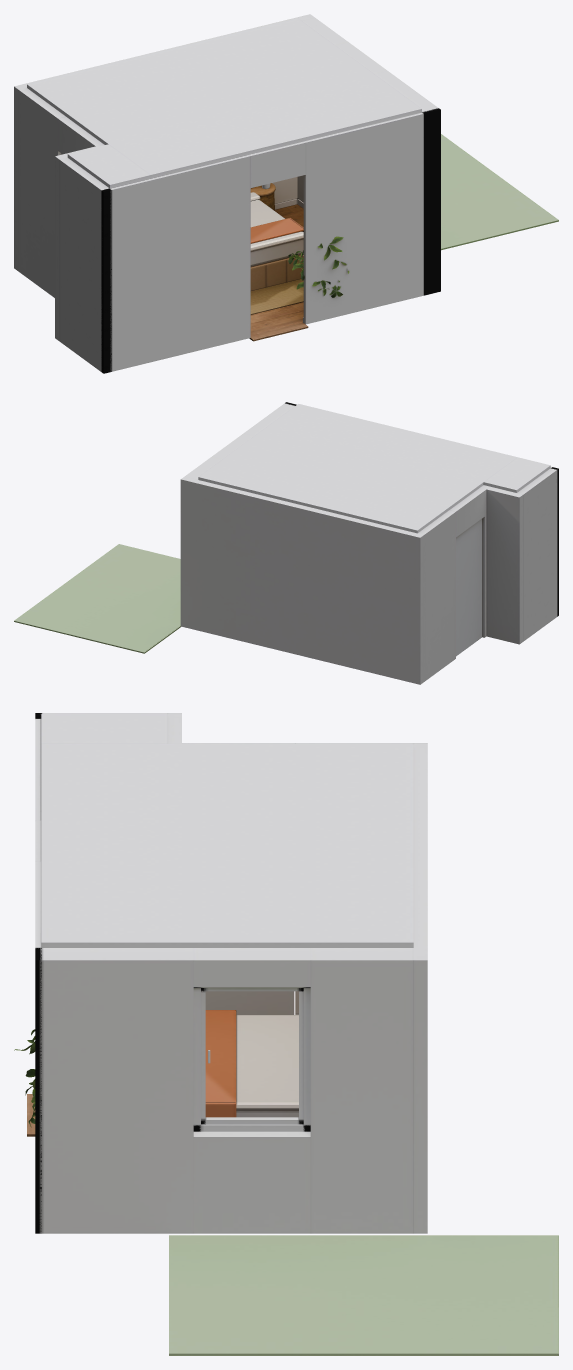
The model's file is schlafzimmer.glb.
3 renders of one model, top to bottom at view 1: azimuth 30°, elevation 25°; view 2: azimuth 150°, elevation 25°; view 3: azimuth 270°, elevation 25°, orthographic. The views are drawn at different scales.
Visible parts, largest first — view 1: interior, outdoor, pachira_aquatica_01_leaves_d; view 2: interior, outdoor; view 3: interior, outdoor.
Boxes of the visible parts, bbox=[...] form: interior: bbox=[14, 14, 440, 373]; outdoor: bbox=[441, 134, 558, 250]; pachira_aquatica_01_leaves_d: bbox=[288, 236, 349, 297]; interior: bbox=[180, 402, 558, 684]; outdoor: bbox=[14, 544, 180, 653]; interior: bbox=[27, 713, 427, 1233]; outdoor: bbox=[169, 1235, 558, 1355].
Bounding box in the file's own units: 7.34 × 2.63 × 4.61.
11 materials, 11 textured.
